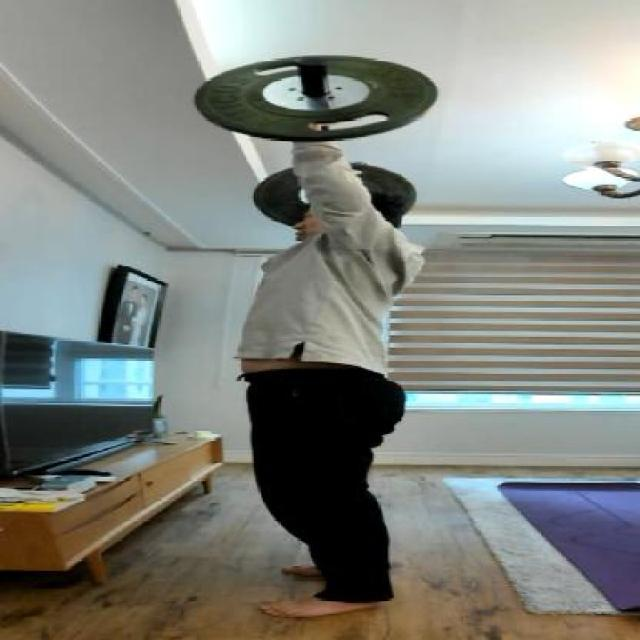barbell: (172, 40, 464, 146)
